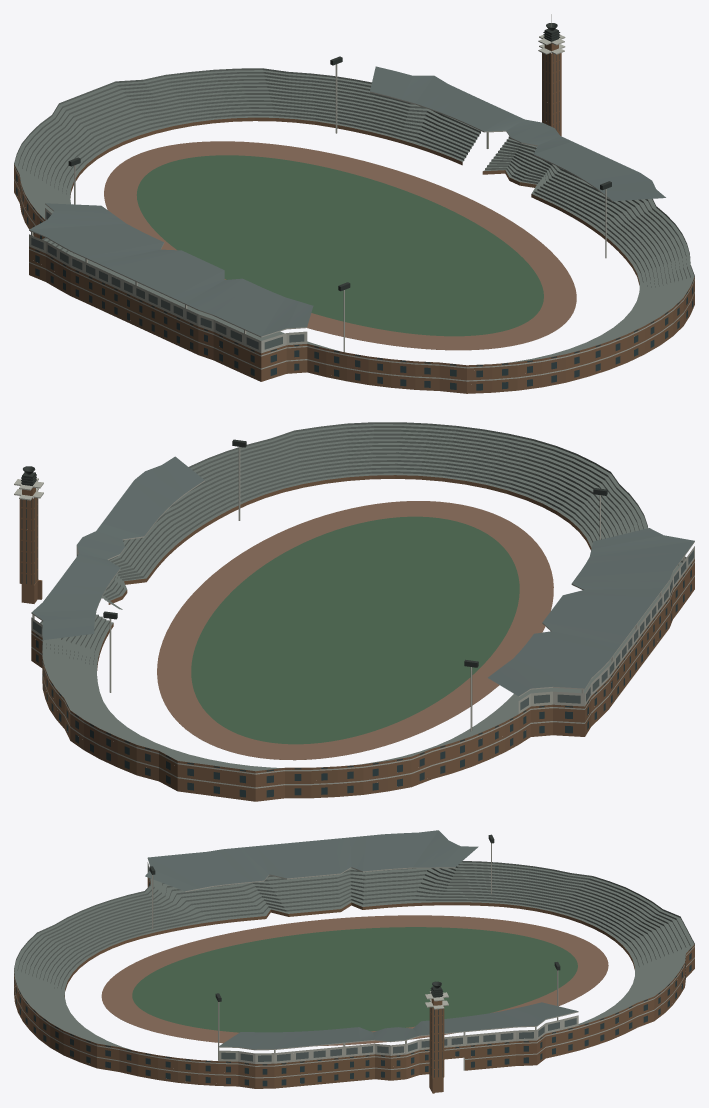
File: olympic-stadium-amsterdam-near.glb
3 renders of one model, top to bottom at view 1: azimuth 30°, elevation 25°; view 2: azimuth 150°, elevation 25°; view 3: azimuth 270°, elevation 25°, orthographic. The views are drawn at different scales.
Visible parts, largest first — view 1: olympic-stadium-amsterdam-0-grass, olympic-stadium-amsterdam-0-seat, olympic-stadium-amsterdam-0-roof, olympic-stadium-amsterdam-0-brick, olympic-stadium-amsterdam-0-track, olympic-stadium-amsterdam-0-steel, olympic-stadium-amsterdam-0-glass, olympic-stadium-amsterdam-0-iron; view 2: olympic-stadium-amsterdam-0-grass, olympic-stadium-amsterdam-0-seat, olympic-stadium-amsterdam-0-roof, olympic-stadium-amsterdam-0-brick, olympic-stadium-amsterdam-0-track, olympic-stadium-amsterdam-0-steel, olympic-stadium-amsterdam-0-glass, olympic-stadium-amsterdam-0-iron; view 3: olympic-stadium-amsterdam-0-grass, olympic-stadium-amsterdam-0-seat, olympic-stadium-amsterdam-0-brick, olympic-stadium-amsterdam-0-roof, olympic-stadium-amsterdam-0-track, olympic-stadium-amsterdam-0-steel, olympic-stadium-amsterdam-0-glass.
Part boxes in pixels (box(x1,y1,x2,y2)): olympic-stadium-amsterdam-0-grass: box(136, 155, 543, 336); olympic-stadium-amsterdam-0-seat: box(14, 68, 694, 363); olympic-stadium-amsterdam-0-roof: box(29, 66, 665, 349); olympic-stadium-amsterdam-0-brick: box(14, 43, 694, 393); olympic-stadium-amsterdam-0-track: box(104, 141, 576, 350); olympic-stadium-amsterdam-0-steel: box(14, 14, 694, 381); olympic-stadium-amsterdam-0-glass: box(16, 53, 693, 390); olympic-stadium-amsterdam-0-iron: box(68, 23, 611, 291); olympic-stadium-amsterdam-0-grass: box(191, 516, 519, 744); olympic-stadium-amsterdam-0-seat: box(40, 422, 686, 771); olympic-stadium-amsterdam-0-roof: box(31, 456, 694, 710); olympic-stadium-amsterdam-0-brick: box(19, 475, 694, 801); olympic-stadium-amsterdam-0-track: box(157, 501, 553, 760); olympic-stadium-amsterdam-0-steel: box(14, 446, 694, 788); olympic-stadium-amsterdam-0-glass: box(21, 498, 691, 797); olympic-stadium-amsterdam-0-iron: box(21, 439, 607, 667); olympic-stadium-amsterdam-0-grass: box(132, 927, 577, 1032); olympic-stadium-amsterdam-0-seat: box(14, 861, 694, 1049); olympic-stadium-amsterdam-0-brick: box(14, 877, 694, 1093); olympic-stadium-amsterdam-0-roof: box(145, 830, 577, 1061); olympic-stadium-amsterdam-0-track: box(101, 915, 608, 1046); olympic-stadium-amsterdam-0-steel: box(14, 843, 694, 1078); olympic-stadium-amsterdam-0-glass: box(14, 878, 691, 1086).
Size of the model in its own units: 191 by 46 by 243.
